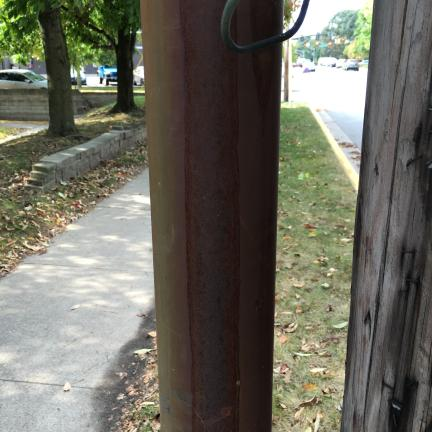karat: (142, 0, 281, 431)
